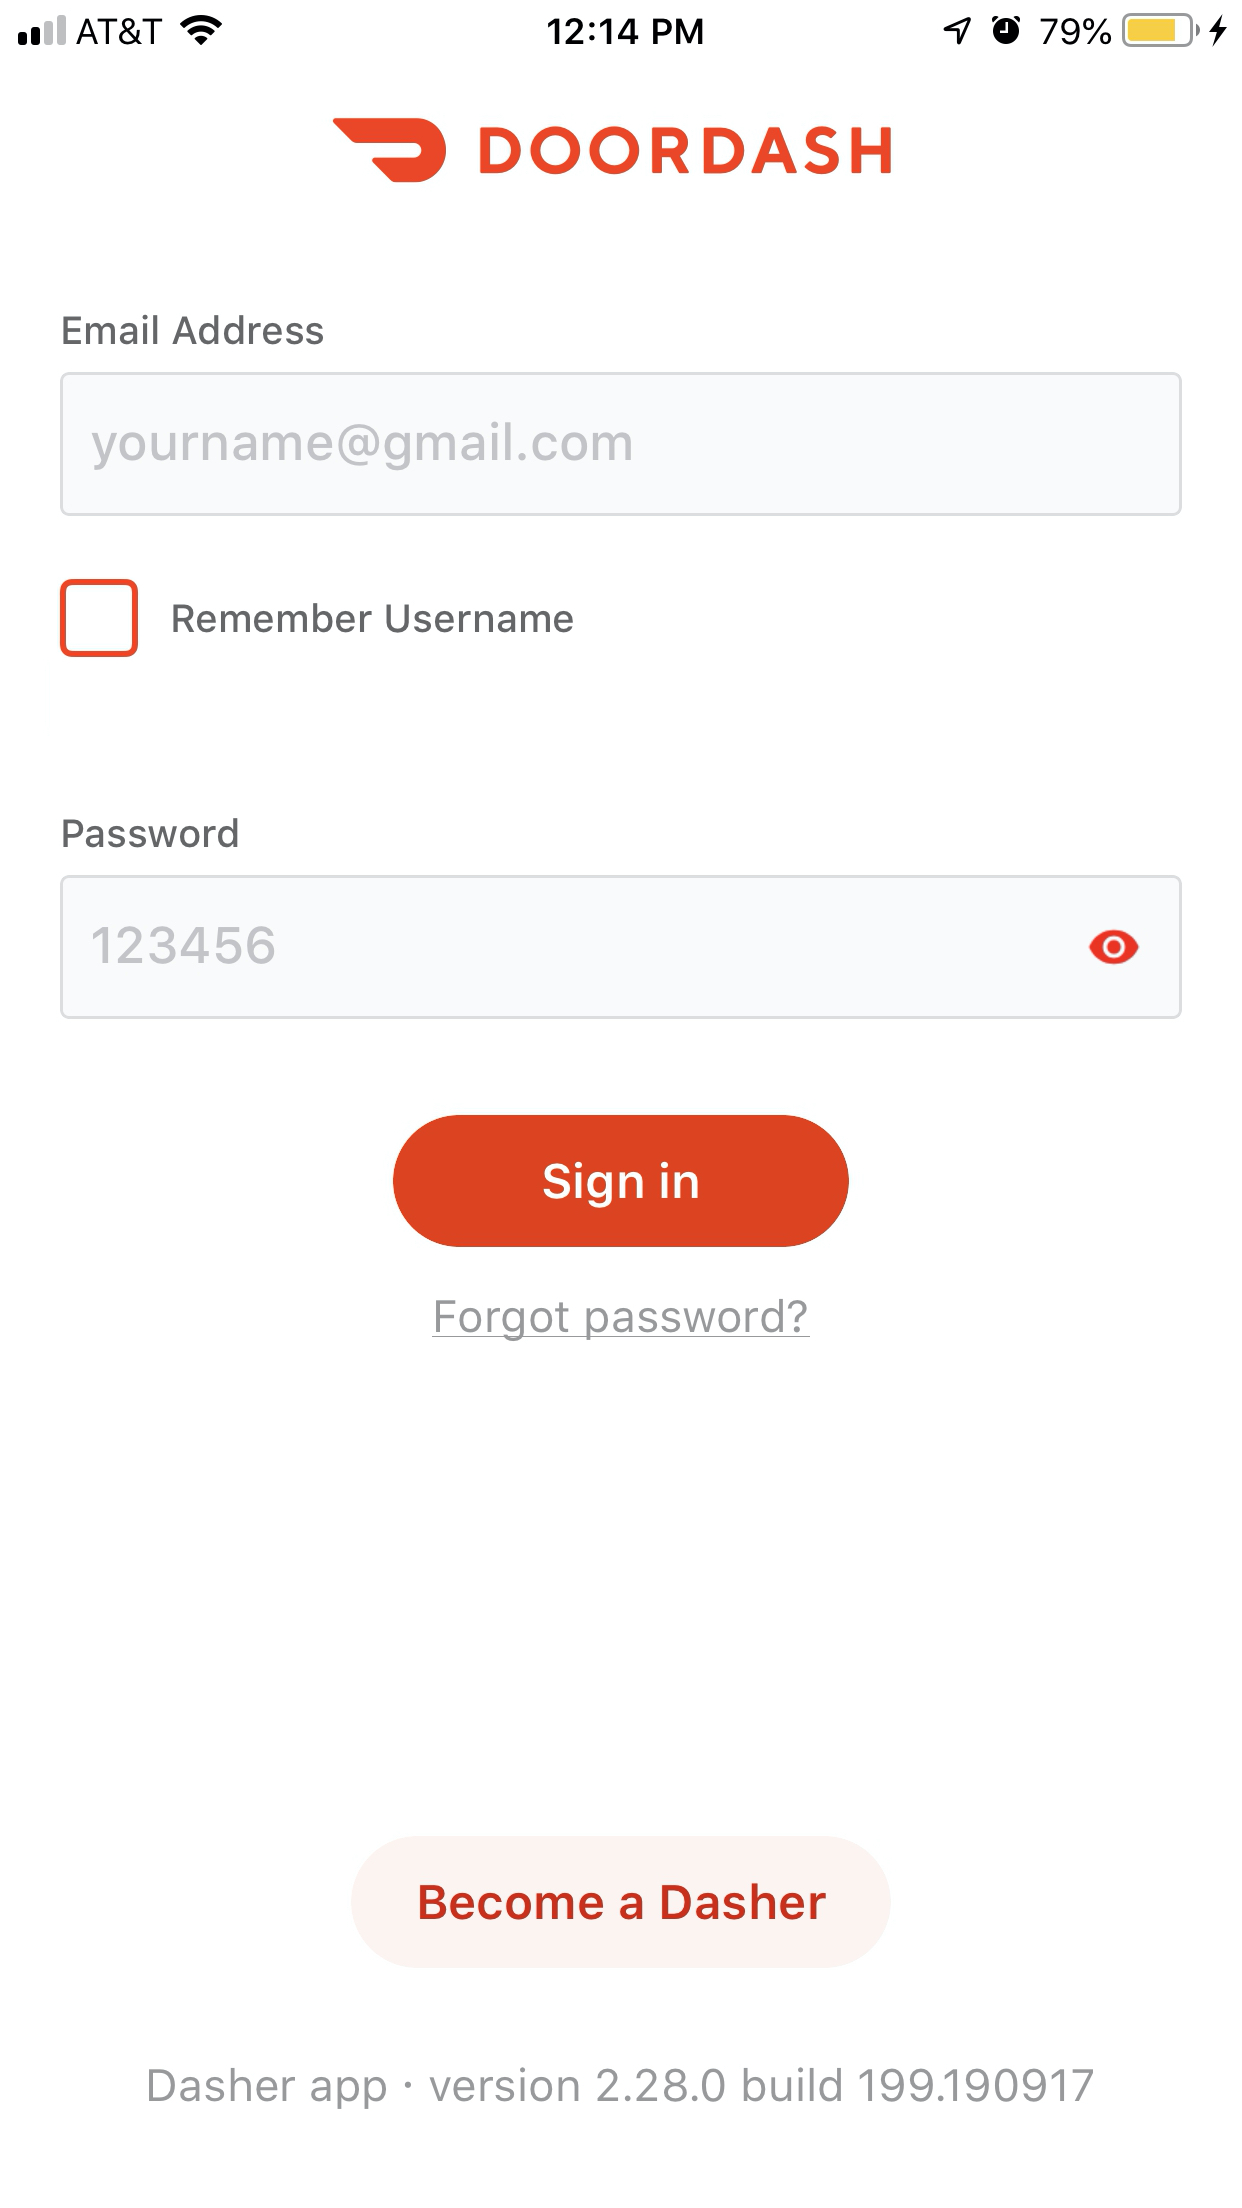CheckedTextView: (61, 579, 575, 658)
EditText: (61, 372, 1181, 517), (61, 875, 1181, 1021)
Icon: (1087, 930, 1140, 964)
Image: (334, 118, 447, 185)
Text: (149, 2065, 1093, 2109), (93, 425, 632, 472), (481, 126, 892, 176), (432, 1300, 811, 1342), (173, 604, 575, 634), (64, 315, 325, 346), (93, 927, 274, 964), (64, 819, 240, 849)
TextButton: (352, 1835, 892, 1968), (393, 1115, 851, 1248)
UpperTaskBar: (2, 2, 1242, 49)
